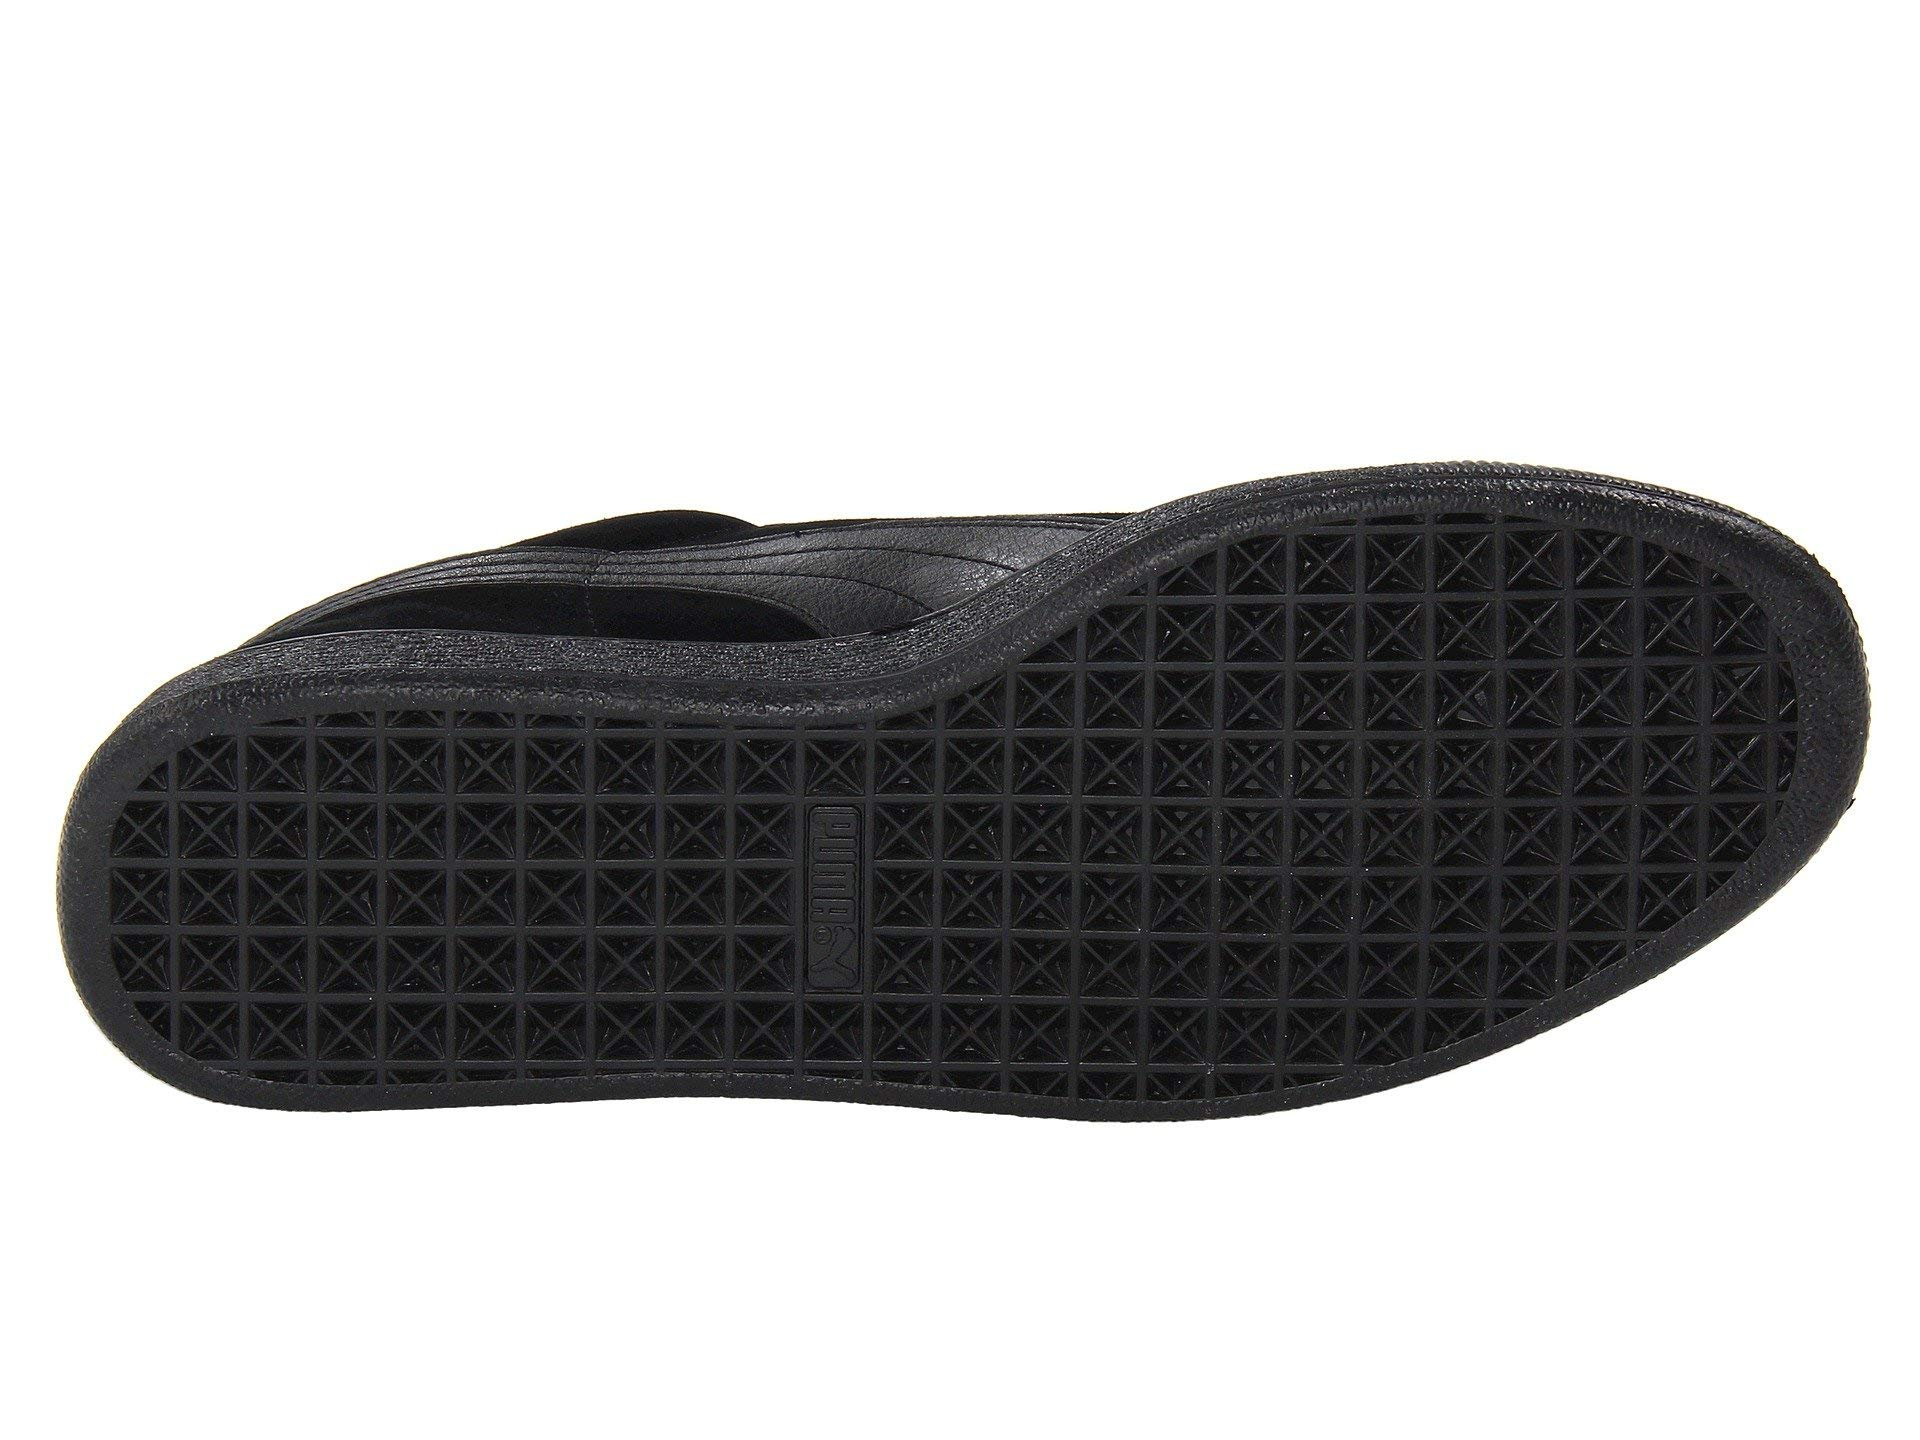quad: (218, 740, 526, 1033)
star: (218, 740, 526, 1033)
triangle: (218, 740, 526, 1033)
